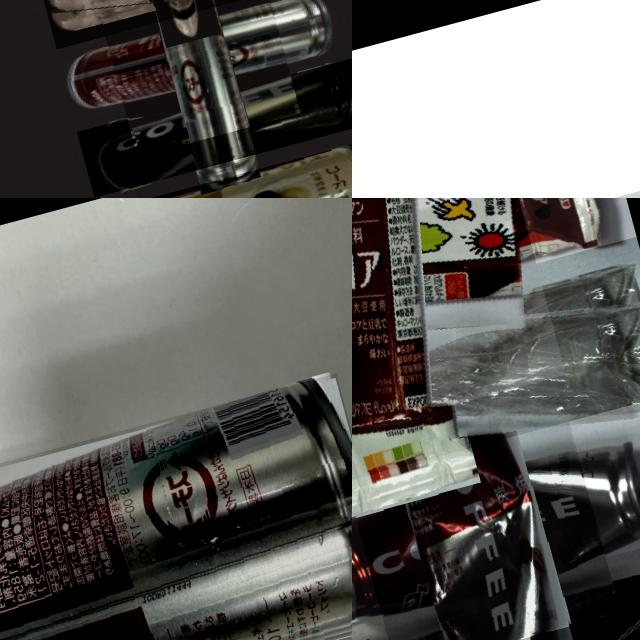Aluminium Foil: (352, 198, 565, 471)
Can: (0, 371, 352, 640), (352, 388, 620, 640), (76, 57, 352, 196), (93, 0, 300, 155), (352, 567, 640, 640), (95, 137, 352, 198)
Transparent Plastic Bottle: (352, 235, 640, 539), (33, 0, 352, 48)
